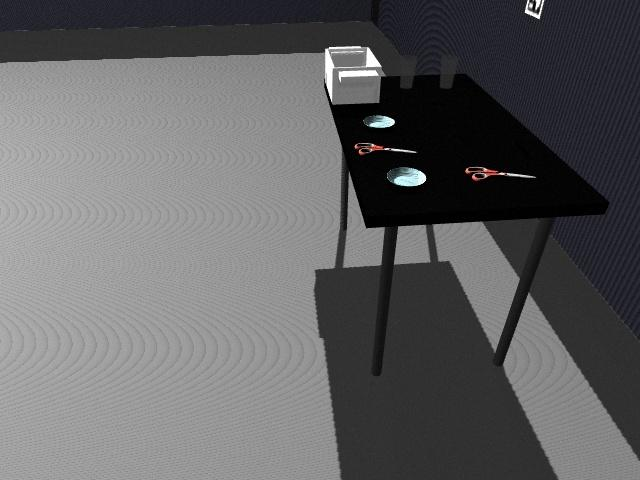cup: (439, 54, 458, 91), (399, 57, 416, 90)
plate: (385, 166, 429, 187), (362, 115, 396, 129)
scissors: (467, 166, 534, 181), (355, 142, 416, 156)
